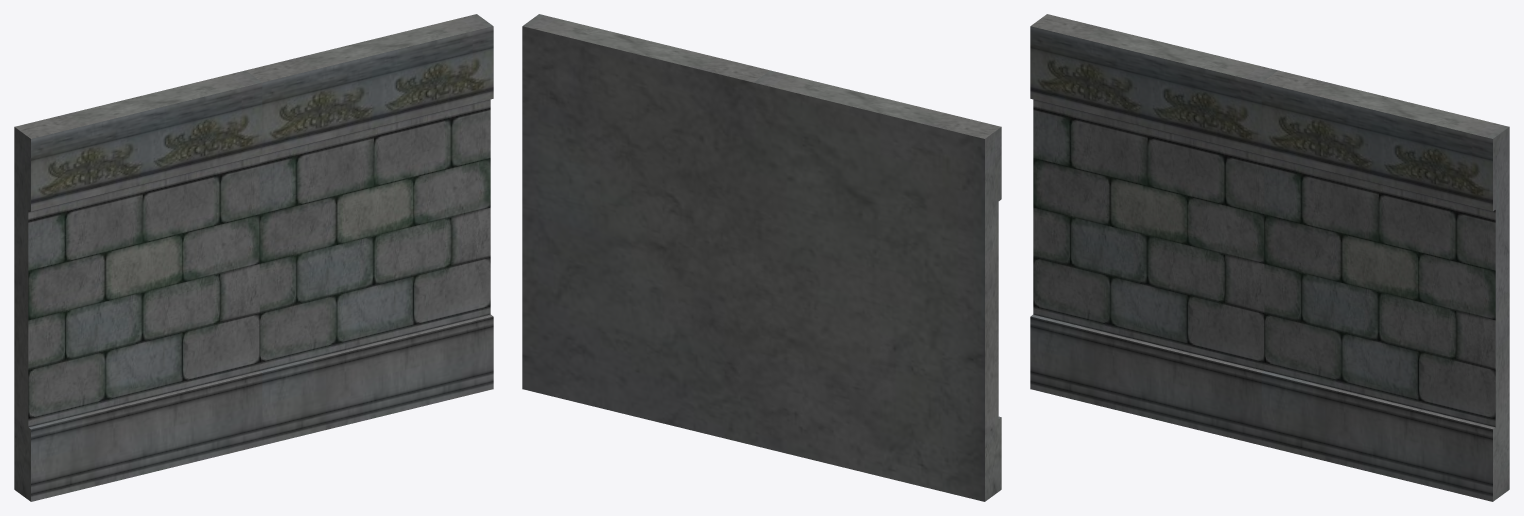
Rendered from wall_large_half_01.glb.
The picture shows the model from 3 angles, left to right: view 1: azimuth 30°, elevation 25°; view 2: azimuth 150°, elevation 25°; view 3: azimuth 330°, elevation 25°; orthographic projection.
Visible parts, largest first — view 1: wall_large_half_01; view 2: wall_large_half_01; view 3: wall_large_half_01.
Boxes of the visible parts, x1,y1,x2,y2 form: wall_large_half_01: (14,14,493,501); wall_large_half_01: (522,14,1001,501); wall_large_half_01: (1030,14,1509,501).
Bounding box in the file's own units: 4 × 3 × 0.25.
1 material, 1 textured.
